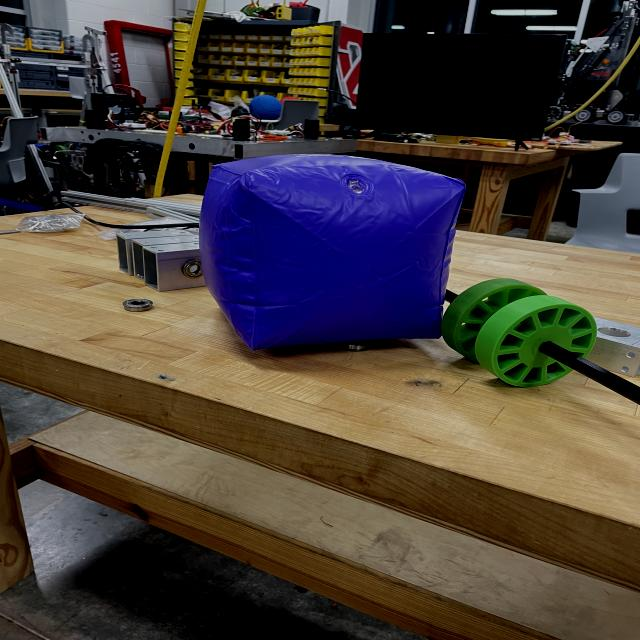frc_cube: (202, 150, 450, 343)
